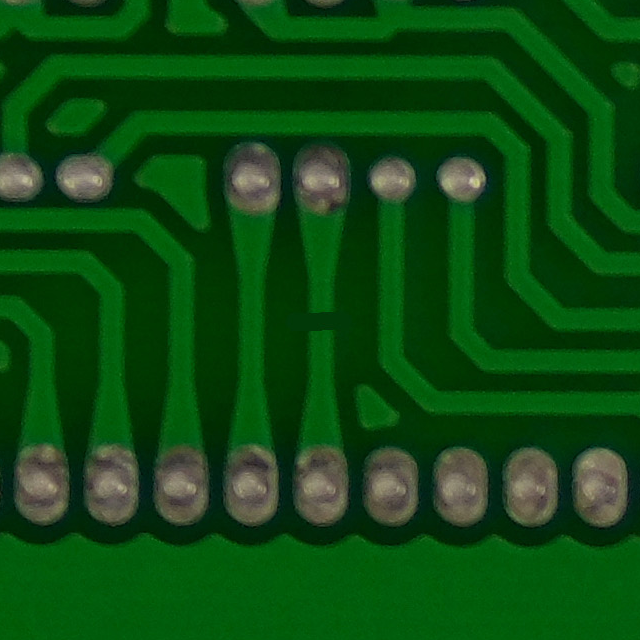open_circuit: (288, 294, 353, 347)
